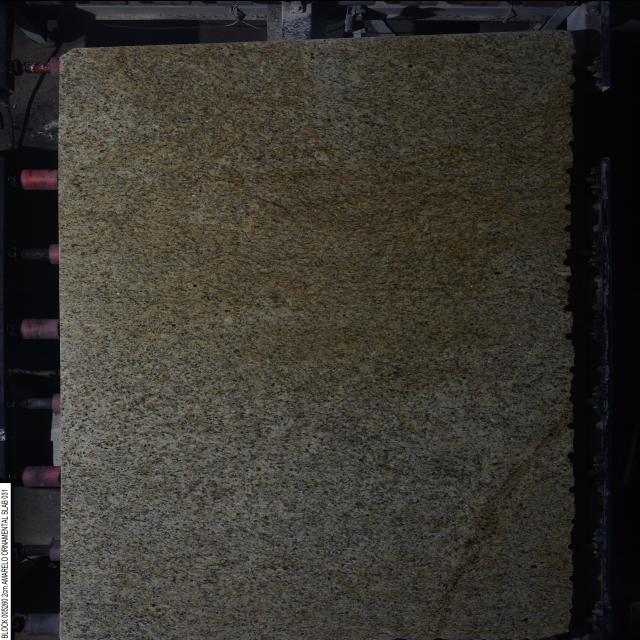chapa: (60, 31, 574, 640)
veio: (564, 329, 577, 342), (562, 302, 576, 314)
